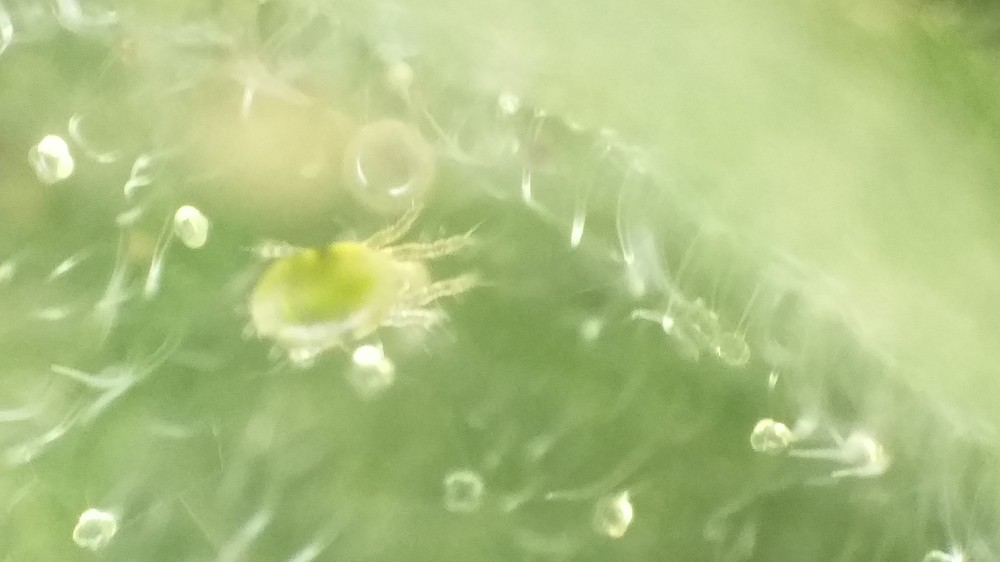Aracnido Rojo: (240, 198, 480, 356)
